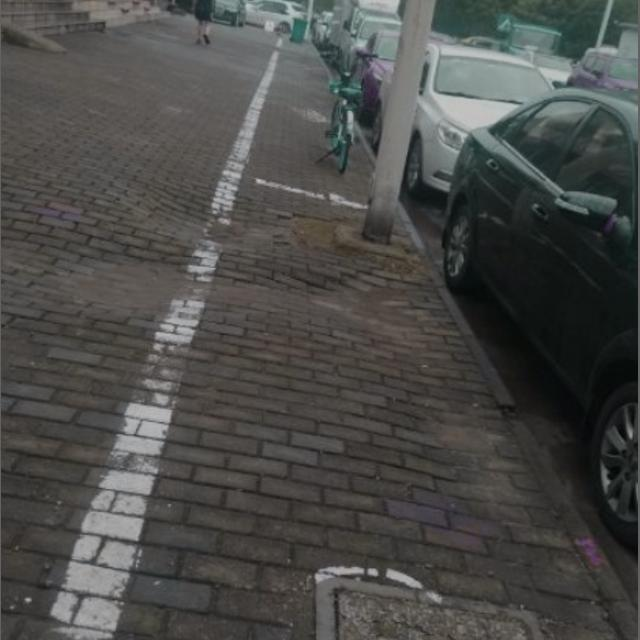broke: (320, 572, 587, 640)
